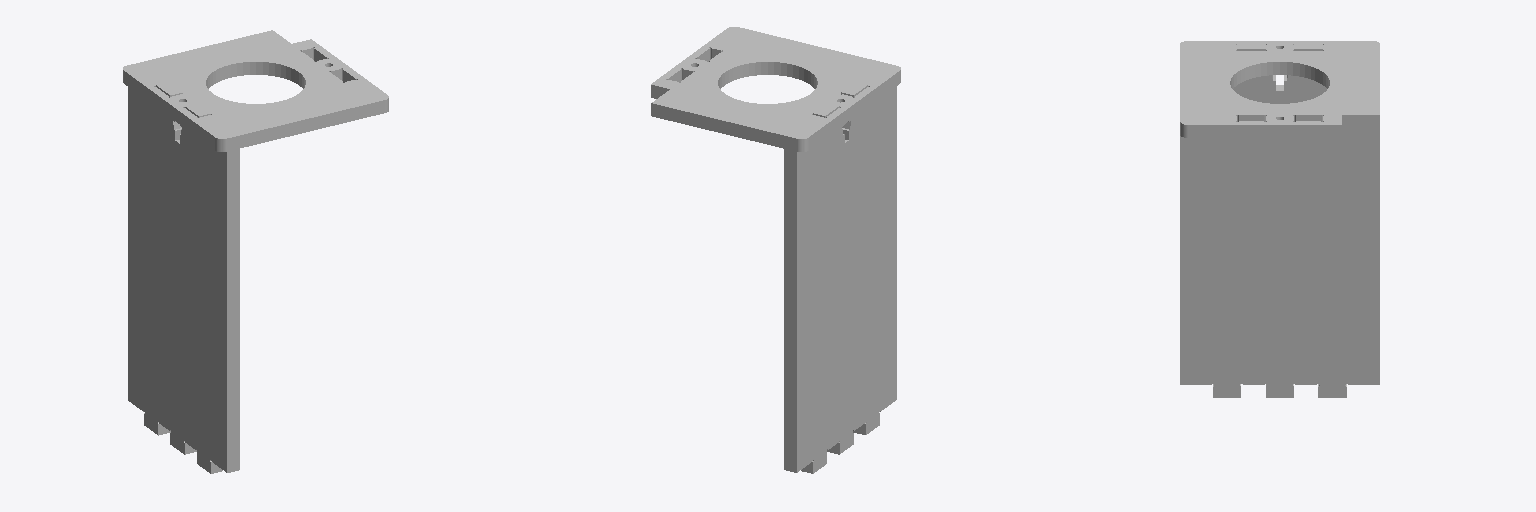
File: GfinalS3.obj
3 views of the same model, side by side, from view 1: azimuth 30°, elevation 25°; view 2: azimuth 150°, elevation 25°; view 3: azimuth 270°, elevation 25° (orthographic).
Visible parts, largest first — view 1: Mesh_Mesh_Curve.011_Mesh; view 2: Mesh_Mesh_Curve.011_Mesh; view 3: Mesh_Mesh_Curve.011_Mesh.
Boxes of the visible parts, <box> form: Mesh_Mesh_Curve.011_Mesh: <box>123,30,388,473</box>; Mesh_Mesh_Curve.011_Mesh: <box>651,27,900,473</box>; Mesh_Mesh_Curve.011_Mesh: <box>1180,41,1379,397</box>.
Bounding box in the file's own units: 2.76 × 5.32 × 2.76.